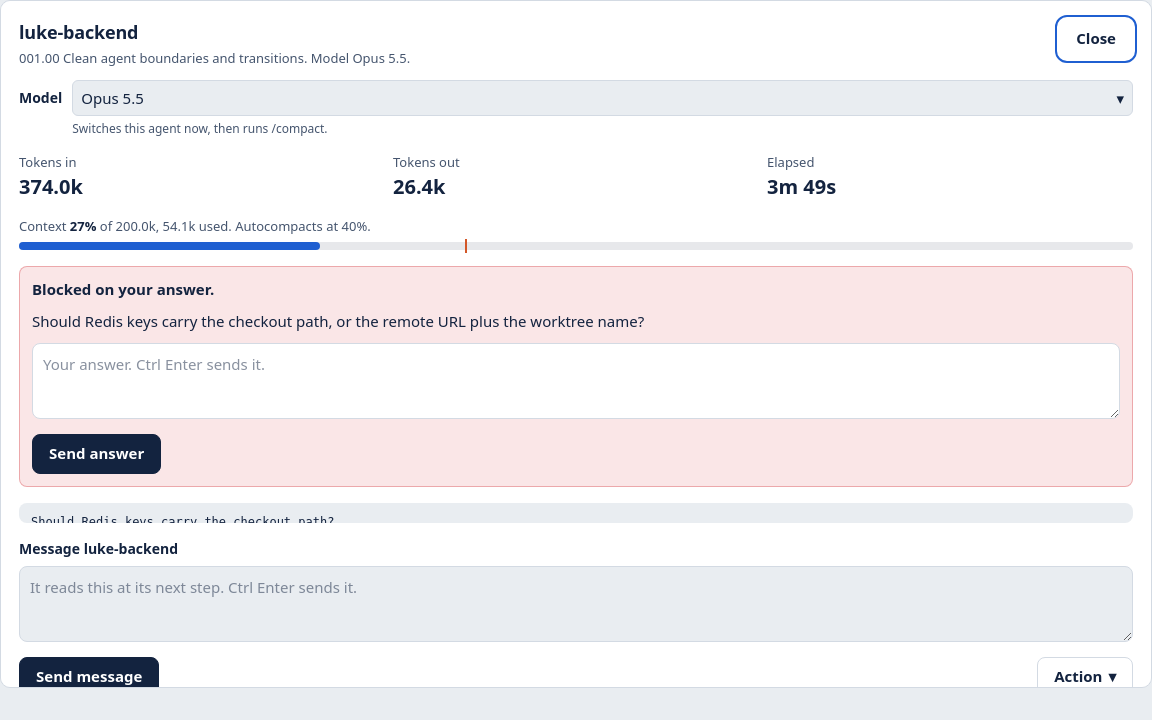
Test: AgentDrawer › shows a stuck agent's question, answers it and puts the answer in the transcript
Expected: the text "Blocked on your answer." is shown, left=32, top=279, right=214, bottom=299
Click the button "Send answer": {"x": 97, "y": 454} left=32, top=434, right=161, bottom=474
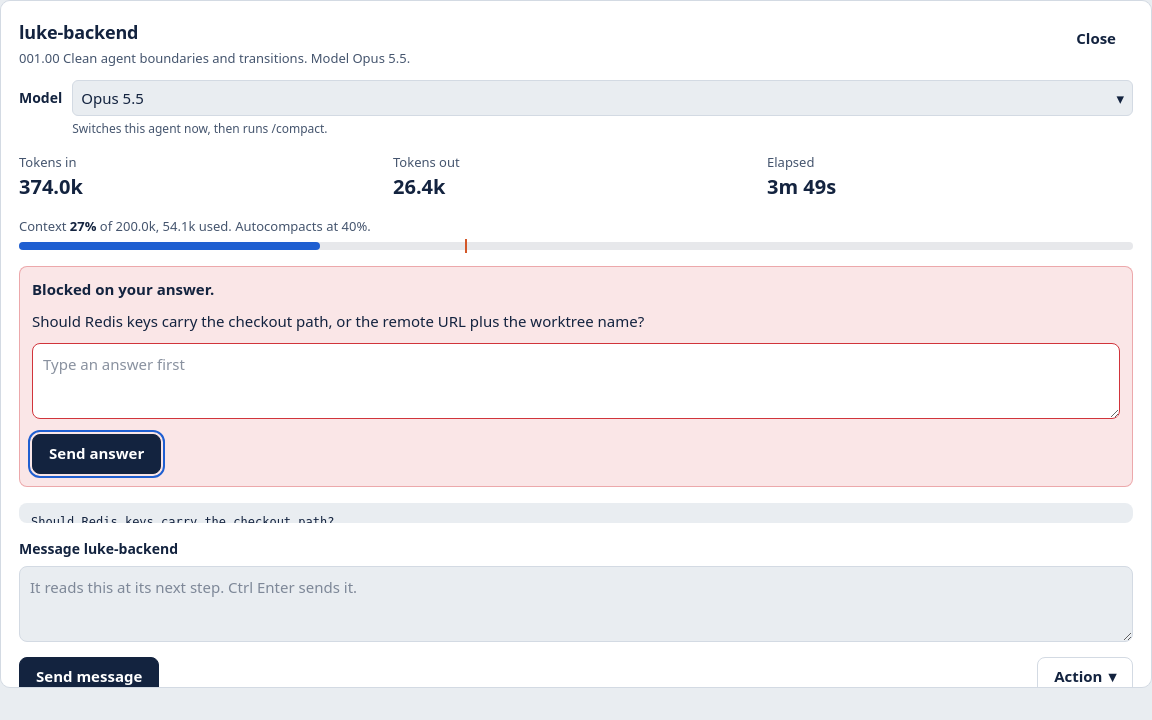
In the text box named "Your answer": {"x": 576, "y": 380} left=32, top=342, right=1120, bottom=418, type "The checkout path."
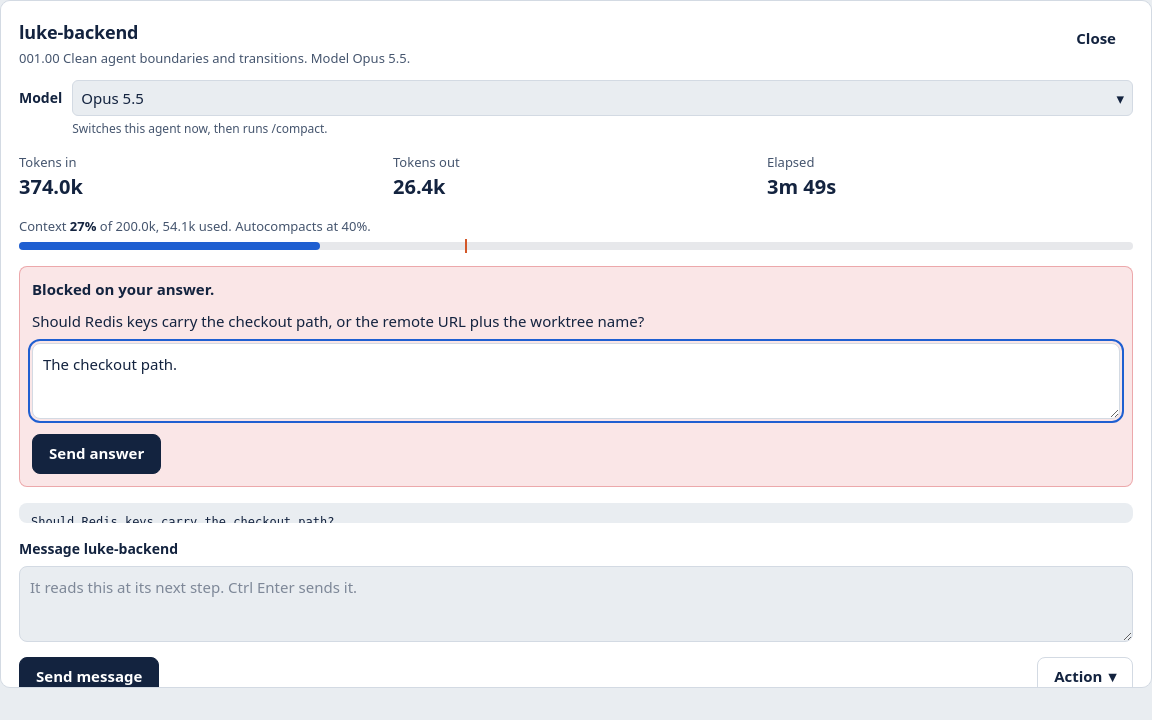
Click the button "Send answer": {"x": 97, "y": 454} left=32, top=434, right=161, bottom=474
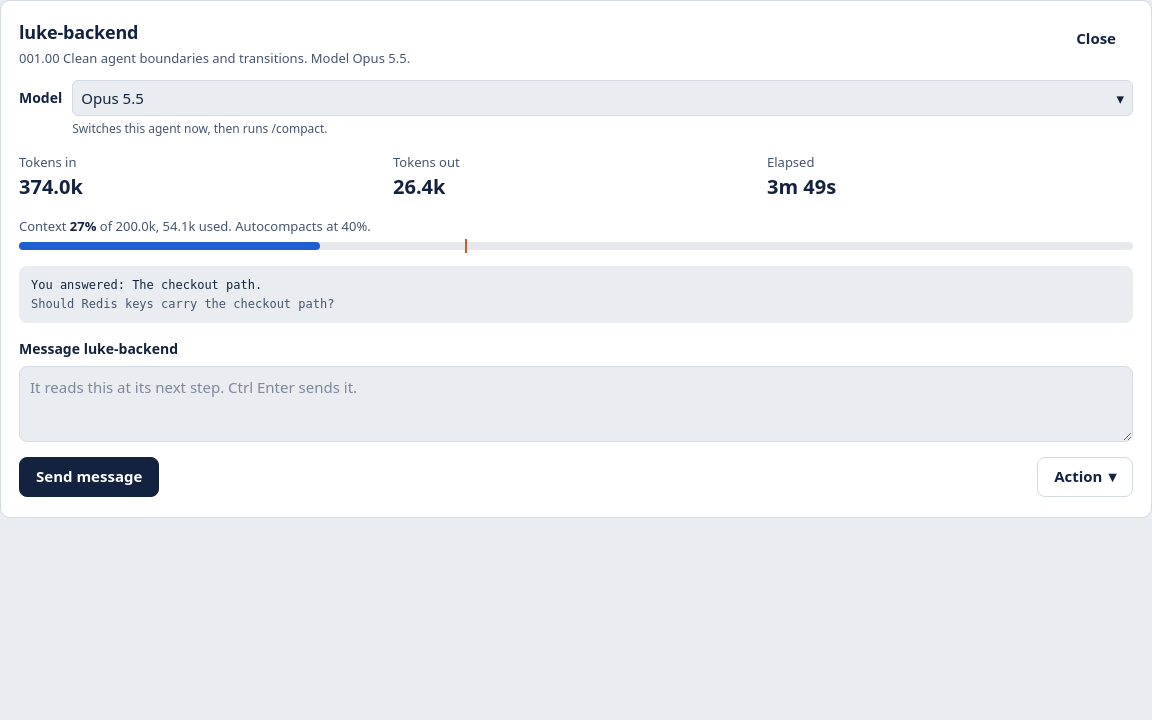
Expected: the list item "You answered: The checkout path." is shown, left=31, top=278, right=262, bottom=292
Expected: the text "Blocked on your answer." is gone
